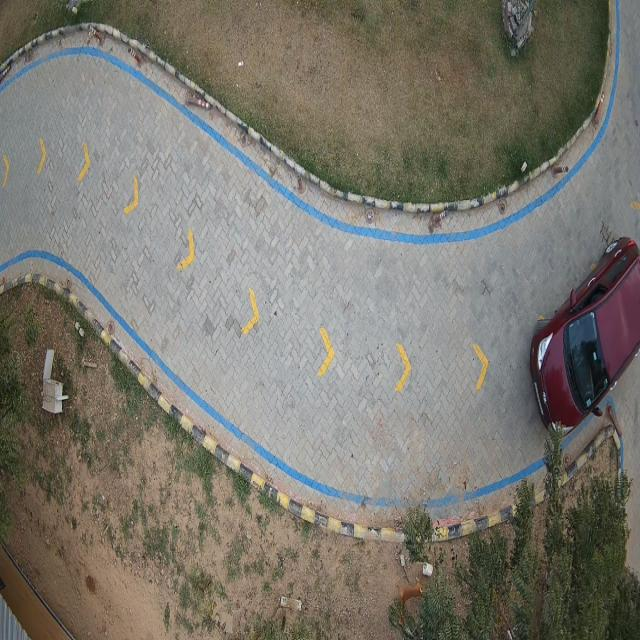car: (530, 238, 640, 428)
